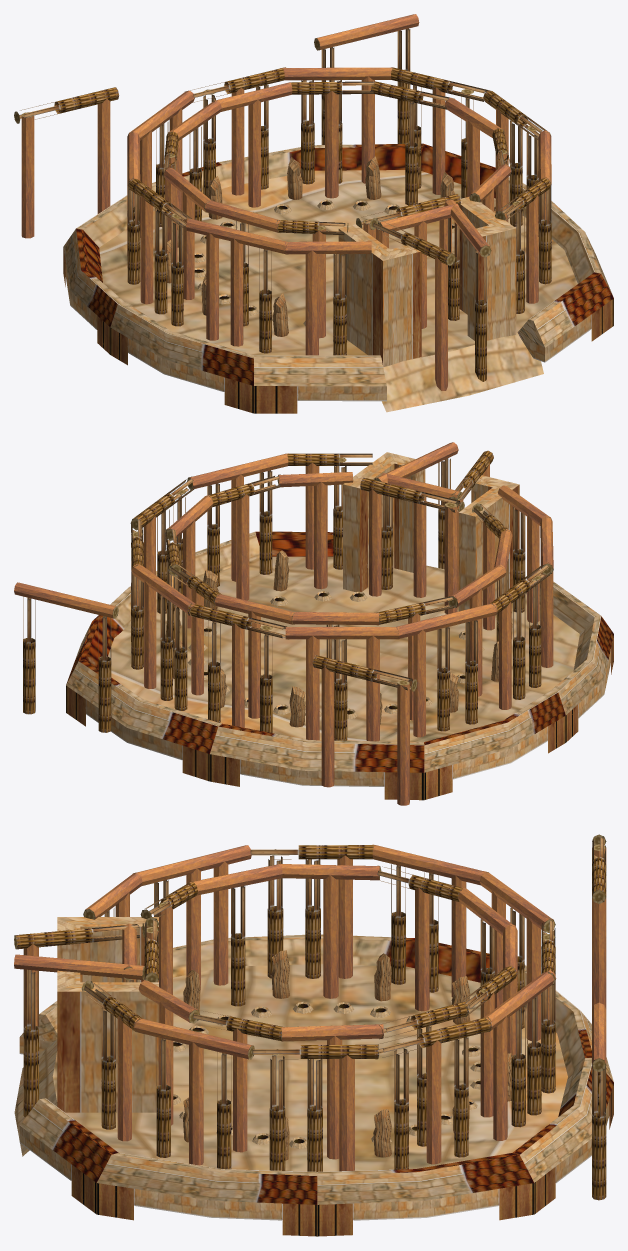
Rendered from editor_wooden_ring.dae.
The picture shows the model from 3 angles, top to bottom: view 1: azimuth 30°, elevation 25°; view 2: azimuth 150°, elevation 25°; view 3: azimuth 270°, elevation 25°; orthographic projection. The views are drawn at different scales.
Visible parts, largest first — view 1: editor_wooden_ring; view 2: editor_wooden_ring; view 3: editor_wooden_ring.
Boxes of the visible parts, box(x1,y1,x2,y2) form: editor_wooden_ring: box(14, 14, 613, 413); editor_wooden_ring: box(14, 442, 613, 805); editor_wooden_ring: box(14, 834, 613, 1236).
Bounding box in the file's own units: 27.83 × 28.18 × 8.72.
